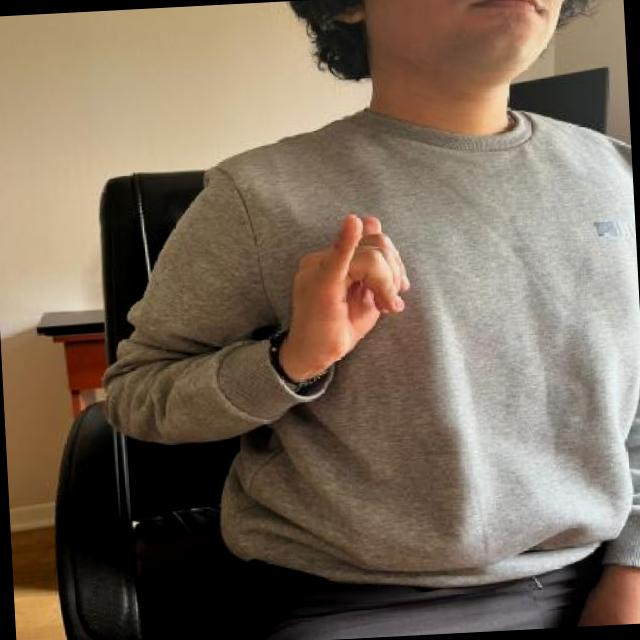I: (277, 198, 424, 364)
